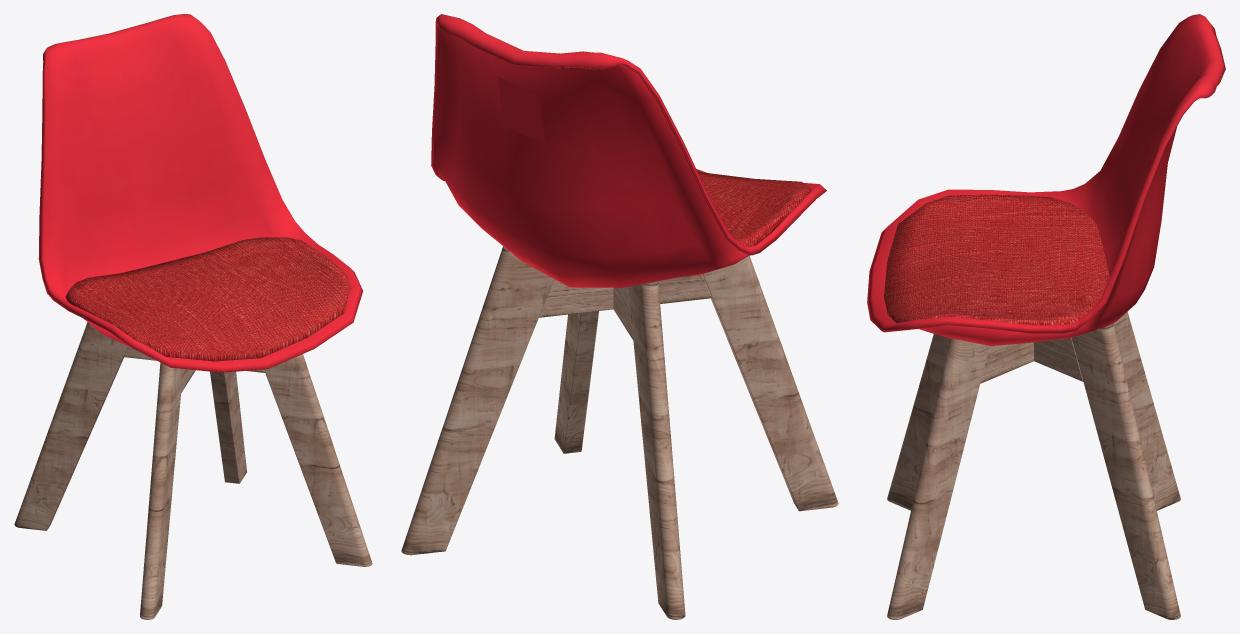
File: silla.obj
The picture shows the model from 3 angles, left to right: view 1: azimuth 30°, elevation 25°; view 2: azimuth 150°, elevation 25°; view 3: azimuth 270°, elevation 25°; orthographic projection. The views are drawn at different scales.
Parts seen in each view (by area): view 1: silla:silla:Chai_Frankfurt_Black; view 2: silla:silla:Chai_Frankfurt_Black; view 3: silla:silla:Chai_Frankfurt_Black.
Part boxes in pixels (x1,y1,x2,y2): silla:silla:Chai_Frankfurt_Black: (14,14,372,619); silla:silla:Chai_Frankfurt_Black: (401,14,838,619); silla:silla:Chai_Frankfurt_Black: (867,14,1225,619).
Bounding box in the file's own units: 0.3008 × 0.5178 × 0.3324.
Materials: 3 (3 with a texture image).
